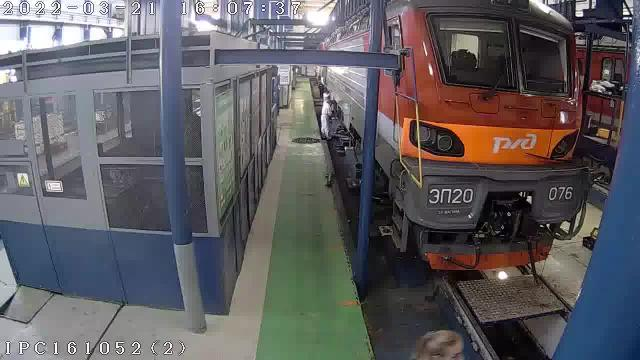person: (414, 330, 463, 359), (321, 92, 331, 139)
train: (376, 0, 588, 269)
